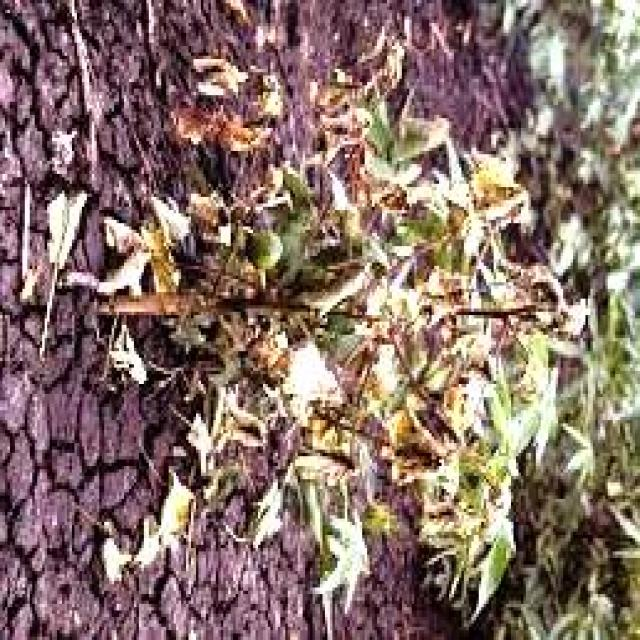Fusarium Wilt: (41, 52, 584, 580)
